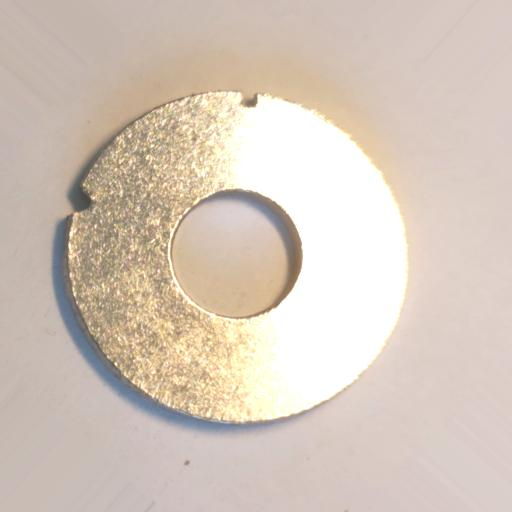burr: (69, 184, 95, 215), (237, 91, 261, 110)
